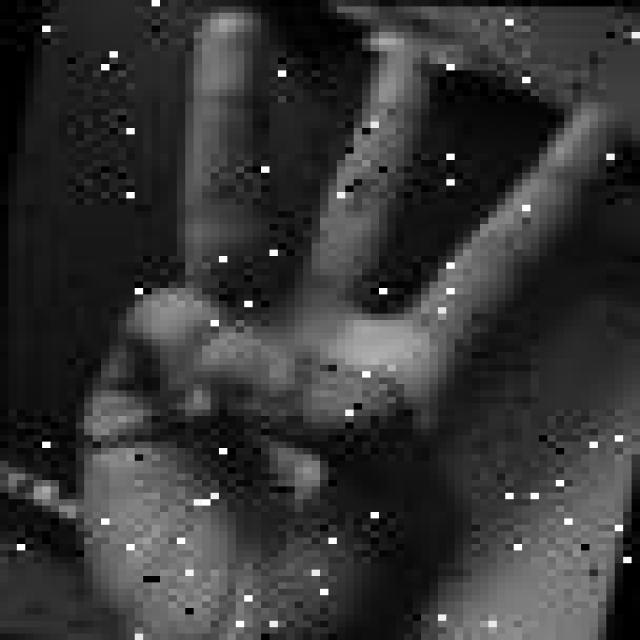W: (42, 0, 632, 640)
